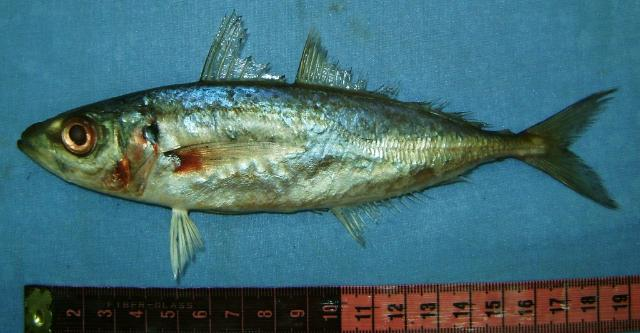Mulut: (12, 109, 62, 182)
Sirip Anal: (332, 162, 482, 248)
Sirip Dada: (160, 124, 306, 192)
Sirip Ekor: (520, 73, 626, 215)
Sirip Perut: (158, 200, 220, 286)
Sirip Punggung: (196, 12, 388, 102)
